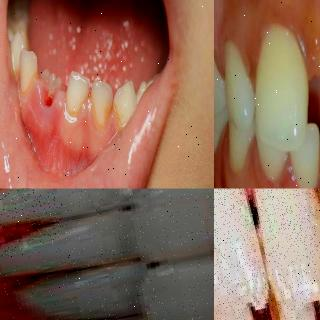Gum Swelling: (0, 188, 48, 260), (25, 78, 64, 132)
maligned: (36, 65, 65, 109)
stains: (104, 101, 134, 138), (89, 95, 115, 130), (65, 100, 87, 126), (18, 68, 36, 96)
